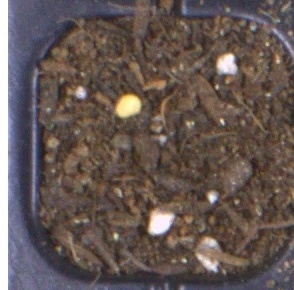chilli seed: (114, 93, 142, 119)
